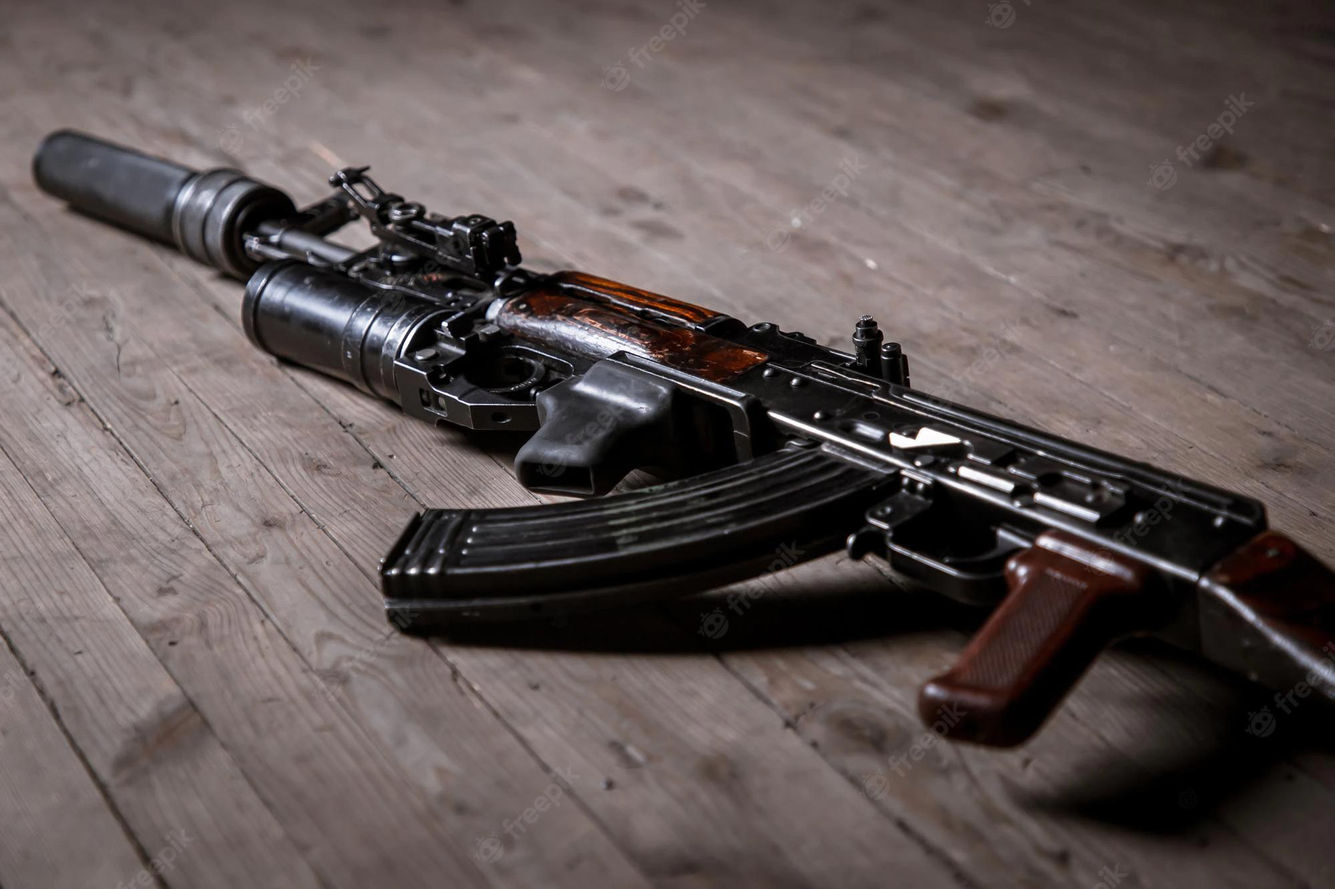larga: (32, 132, 1335, 749)
